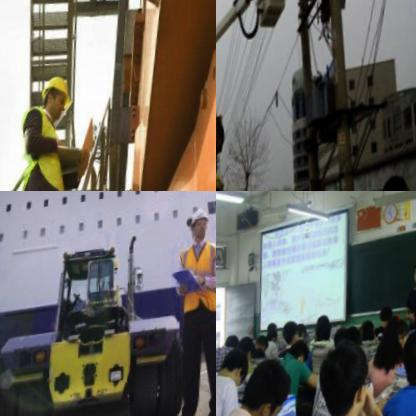head: (317, 337, 374, 416), (238, 354, 296, 416), (385, 318, 412, 360), (222, 348, 250, 387), (402, 330, 416, 393), (312, 321, 335, 353), (236, 333, 258, 363), (289, 339, 310, 369), (348, 326, 367, 359), (284, 319, 302, 350), (363, 318, 379, 345), (224, 331, 241, 355), (254, 334, 271, 357), (295, 322, 311, 346), (335, 327, 351, 351), (380, 305, 396, 329), (266, 328, 280, 348), (410, 300, 416, 339), (269, 322, 281, 340)
helmet: (40, 66, 76, 121), (186, 199, 216, 249)
